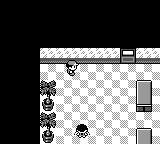main: (66, 61, 78, 75)
no-caminable: (0, 0, 159, 143), (40, 48, 120, 64), (40, 80, 56, 144), (136, 80, 152, 112), (136, 48, 160, 64), (136, 128, 152, 144)
npc: (75, 124, 88, 138)
puerta: (120, 48, 136, 63)
